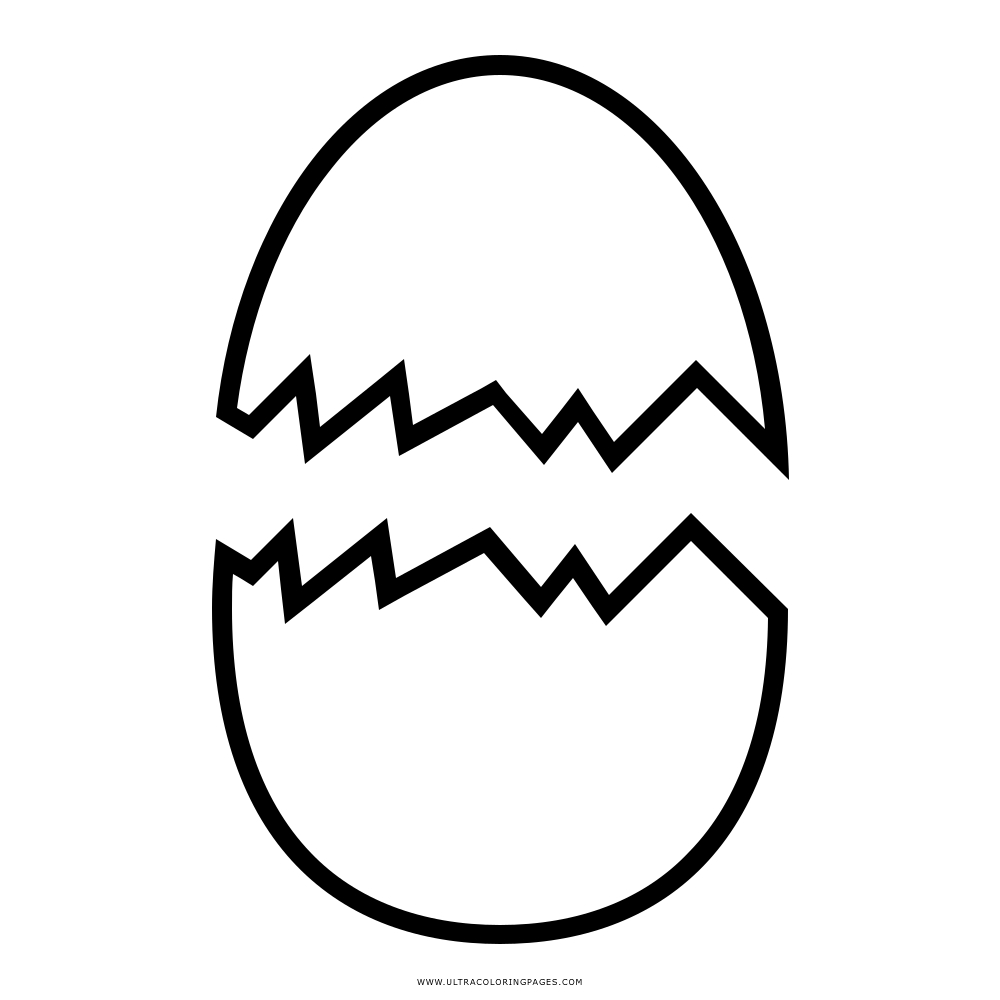egg: (186, 52, 801, 955)
